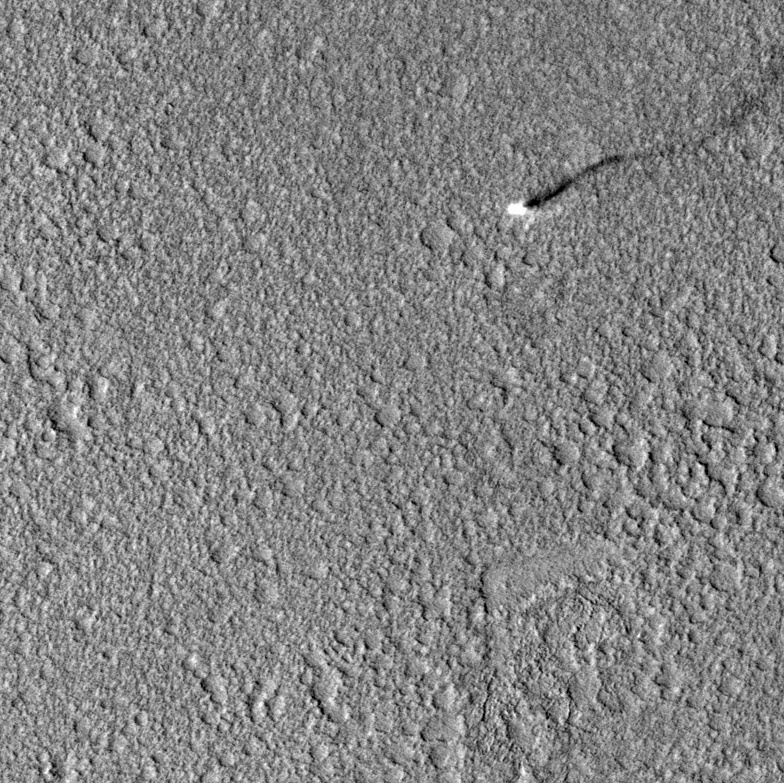dust_devil: (506, 151, 641, 218)
